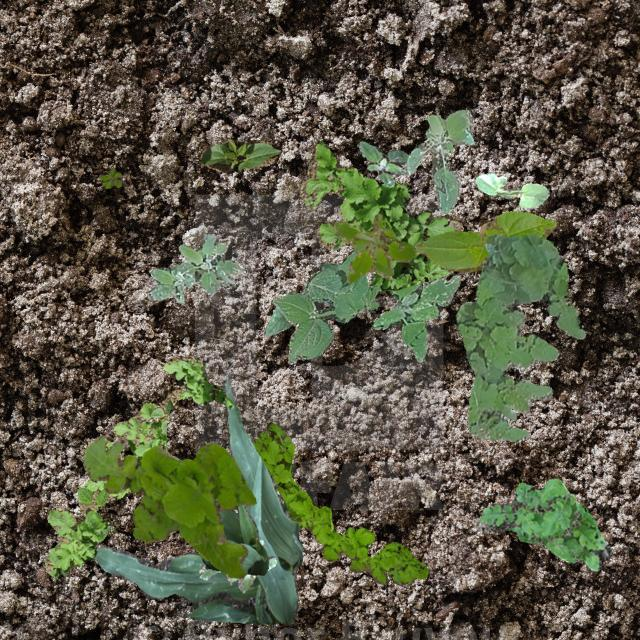crop: (94, 372, 302, 624), (414, 210, 554, 270), (264, 262, 339, 334), (200, 504, 268, 574), (474, 172, 548, 210), (198, 138, 280, 172)
weed: (45, 354, 234, 578), (252, 421, 428, 584), (456, 234, 584, 441), (82, 434, 255, 578), (296, 140, 462, 290), (474, 478, 610, 570), (271, 250, 378, 360), (372, 274, 459, 362), (402, 109, 474, 212), (146, 232, 245, 302), (332, 212, 413, 282), (198, 536, 276, 592), (356, 140, 406, 186), (98, 168, 120, 188)
